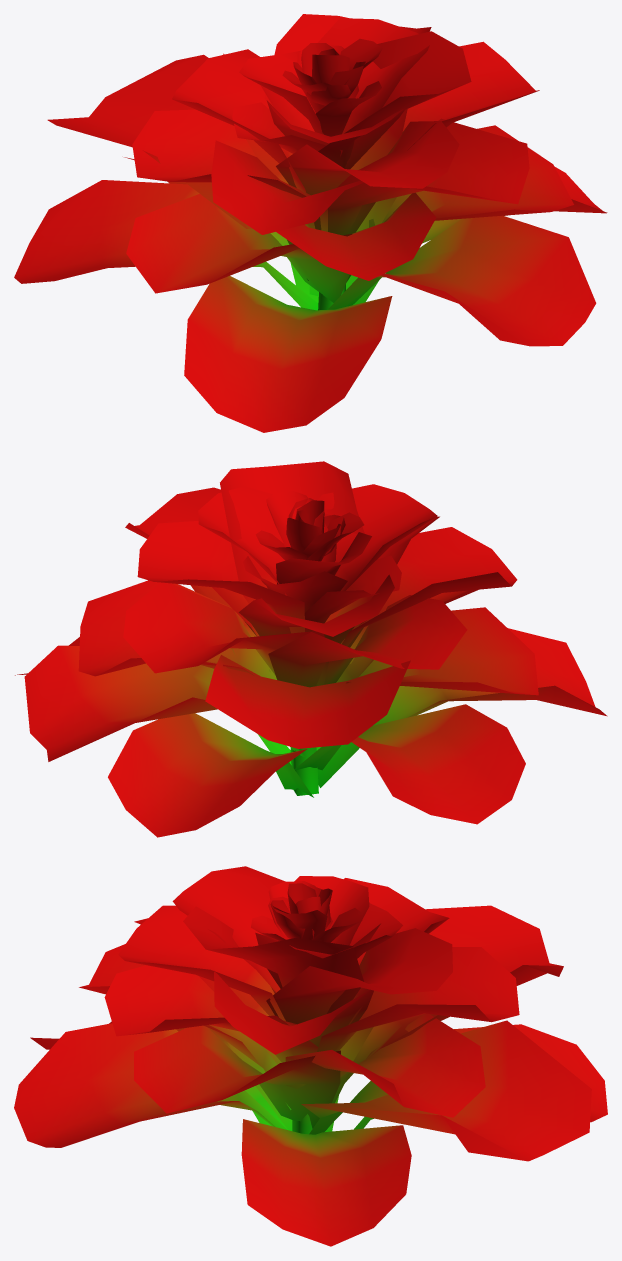
Rendered from White Ornamental Kale_LOD3_Var2_ue3ldcgja.fbx.
3 views of the same model, one above another, from view 1: azimuth 30°, elevation 25°; view 2: azimuth 150°, elevation 25°; view 3: azimuth 270°, elevation 25° (orthographic). The views are drawn at different scales.
Parts seen in each view (by area): view 1: _9479_Var2_LOD3; view 2: _9479_Var2_LOD3; view 3: _9479_Var2_LOD3.
Boxes of the visible parts, x1,y1,x2,y2 form: _9479_Var2_LOD3: (14,14,607,432); _9479_Var2_LOD3: (15,461,607,837); _9479_Var2_LOD3: (14,866,607,1246).
Bounding box in the file's own units: 82.41 × 43.55 × 81.11.
